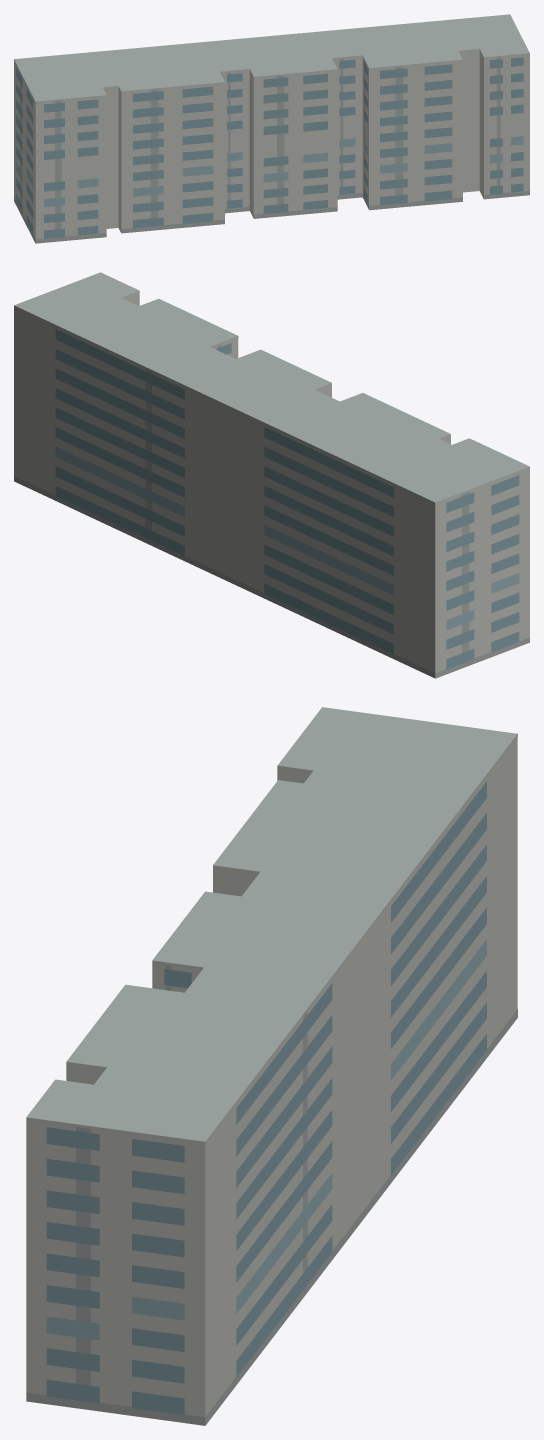
The model's file is residential-c248a2c7-be7c-439f-bd3a-393991abcadf.glb.
The picture shows the model from 3 angles, top to bottom: view 1: azimuth 30°, elevation 25°; view 2: azimuth 150°, elevation 25°; view 3: azimuth 270°, elevation 25°; orthographic projection. The views are drawn at different scales.
Parts seen in each view (by area): view 1: residential-c248a2c7-be7c-439f-bd3a-393991abcadf.tmp; view 2: residential-c248a2c7-be7c-439f-bd3a-393991abcadf.tmp; view 3: residential-c248a2c7-be7c-439f-bd3a-393991abcadf.tmp.
Boxes of the visible parts, x1,y1,x2,y2 form: residential-c248a2c7-be7c-439f-bd3a-393991abcadf.tmp: (14,14,529,243); residential-c248a2c7-be7c-439f-bd3a-393991abcadf.tmp: (14,272,529,678); residential-c248a2c7-be7c-439f-bd3a-393991abcadf.tmp: (26,707,517,1425).
Size of the model in its own units: 78.78 by 24 by 37.65.
